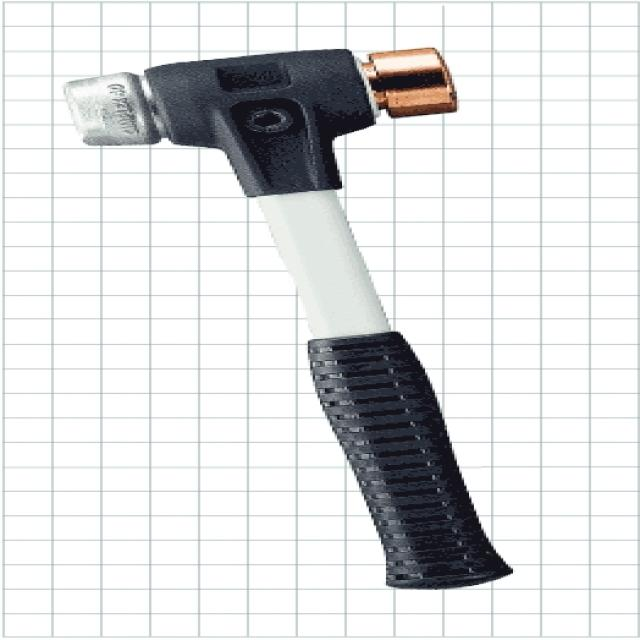hammer: (22, 0, 515, 432)
